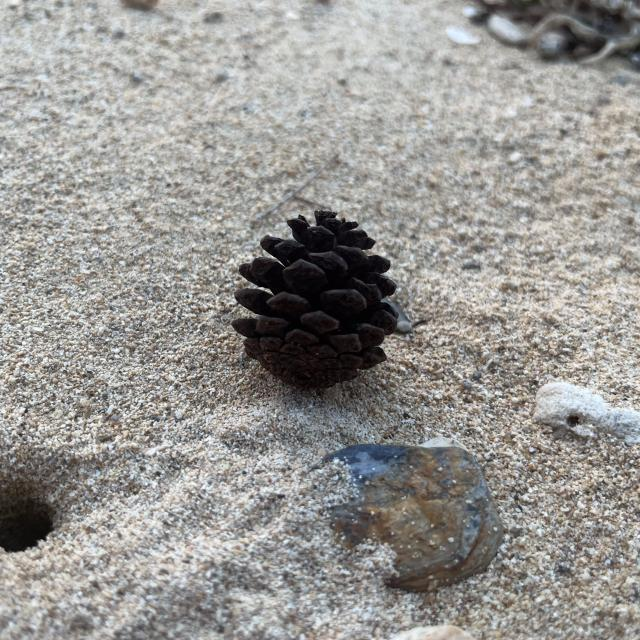pinecone: (232, 197, 401, 396)
rock: (295, 436, 513, 588)
